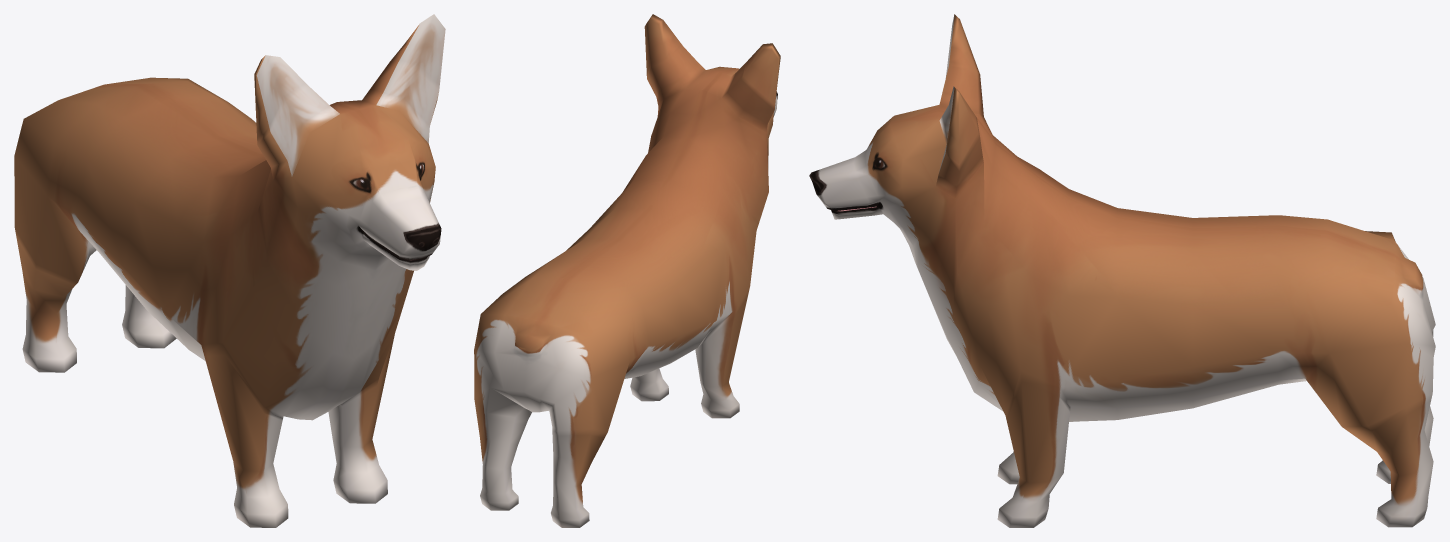
File: New_Doggo_Test.fbx
3 renders of one model, left to right at view 1: azimuth 30°, elevation 25°; view 2: azimuth 150°, elevation 25°; view 3: azimuth 270°, elevation 25°, orthographic. The views are drawn at different scales.
Visible parts, largest first — view 1: Doggo_Model; view 2: Doggo_Model; view 3: Doggo_Model.
Part boxes in pixels (box(x1,y1,x2,y2)): Doggo_Model: box(14, 14, 445, 527); Doggo_Model: box(474, 14, 780, 527); Doggo_Model: box(809, 14, 1435, 527).
Bounding box in the file's own units: 6.17 × 15.58 × 19.79.
